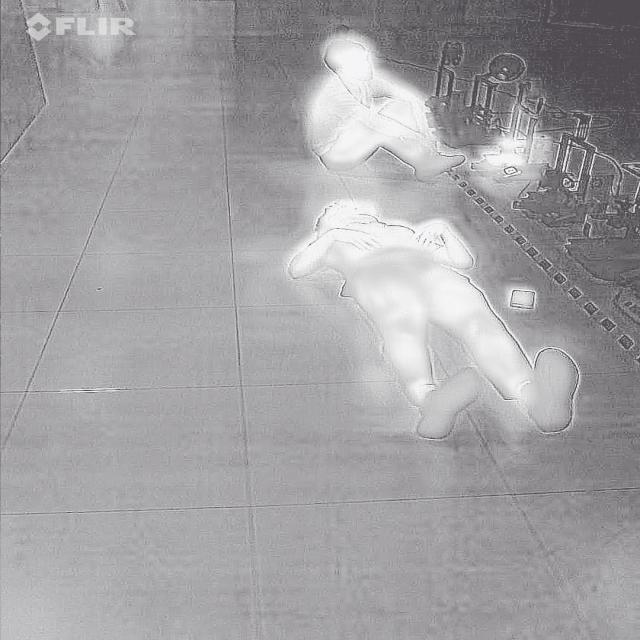Victim: (279, 193, 583, 441), (300, 31, 476, 181)
